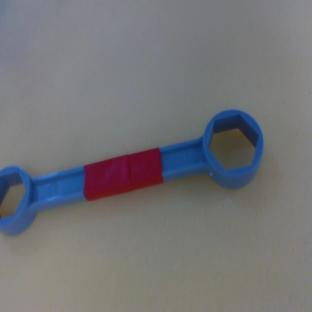part_3_good: (0, 105, 272, 239)
